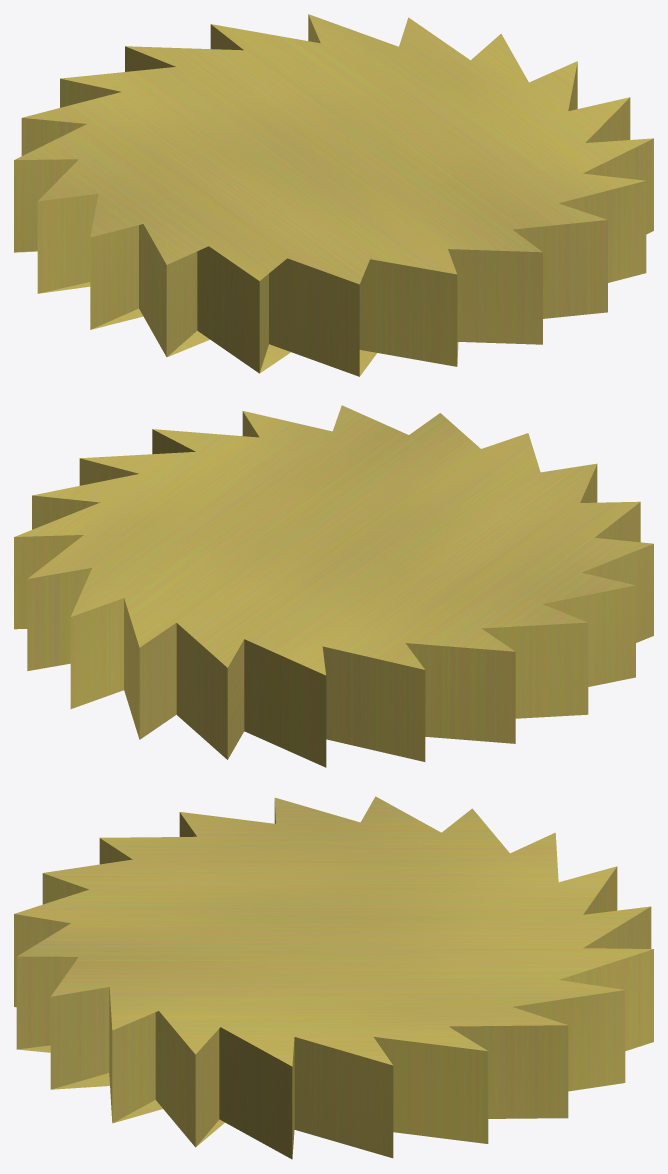
The model's file is ClockAngle6Spoke020.fbx.
The picture shows the model from 3 angles, top to bottom: view 1: azimuth 30°, elevation 25°; view 2: azimuth 150°, elevation 25°; view 3: azimuth 270°, elevation 25°; orthographic projection.
Visible parts, largest first — view 1: ClockAngle6Spoke020; view 2: ClockAngle6Spoke020; view 3: ClockAngle6Spoke020.
Part boxes in pixels (box(x1,y1,x2,y2)): ClockAngle6Spoke020: box(14, 14, 653, 376); ClockAngle6Spoke020: box(14, 405, 653, 767); ClockAngle6Spoke020: box(14, 796, 653, 1159).
Bounding box in the file's own units: 123 × 19.69 × 123.
